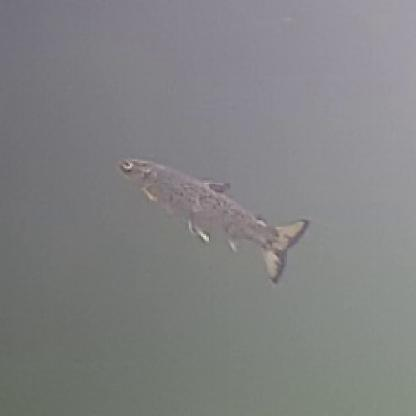salmon: (109, 151, 310, 282)
